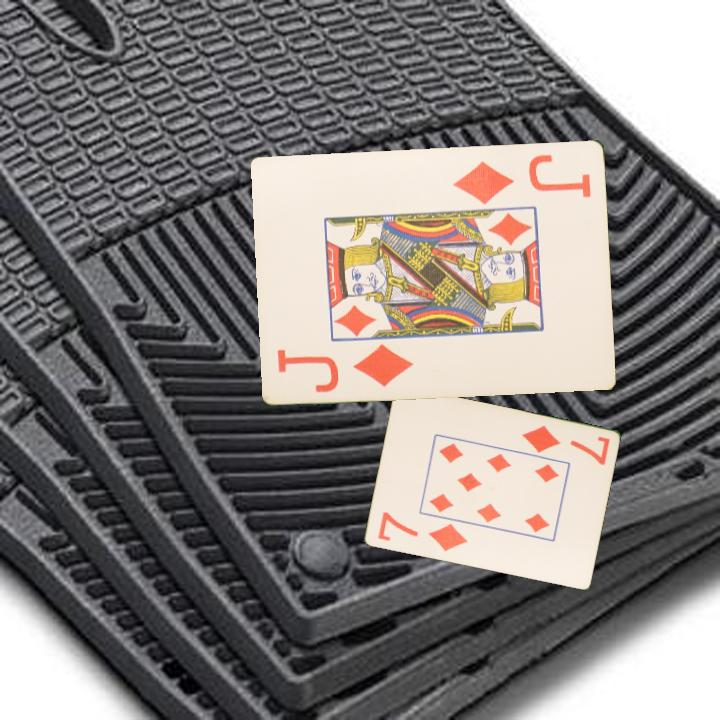7d: (374, 508, 470, 555), (518, 422, 613, 468)
Jd: (450, 150, 595, 207), (274, 340, 417, 395)
